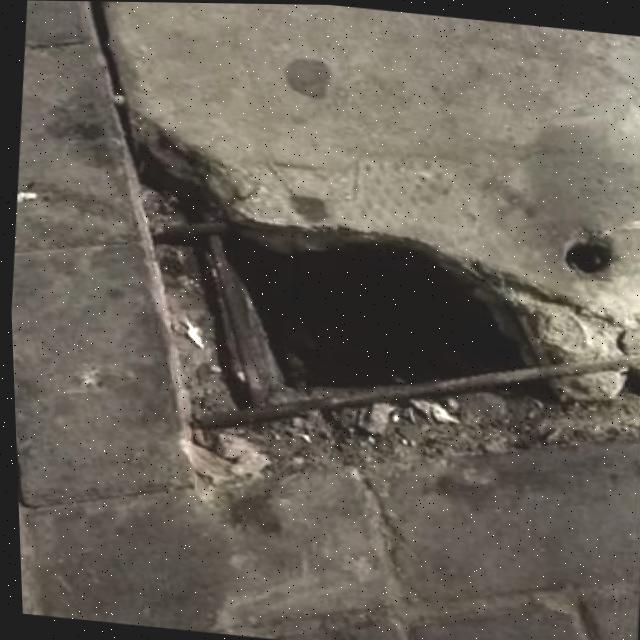manhole: (40, 0, 640, 479)
